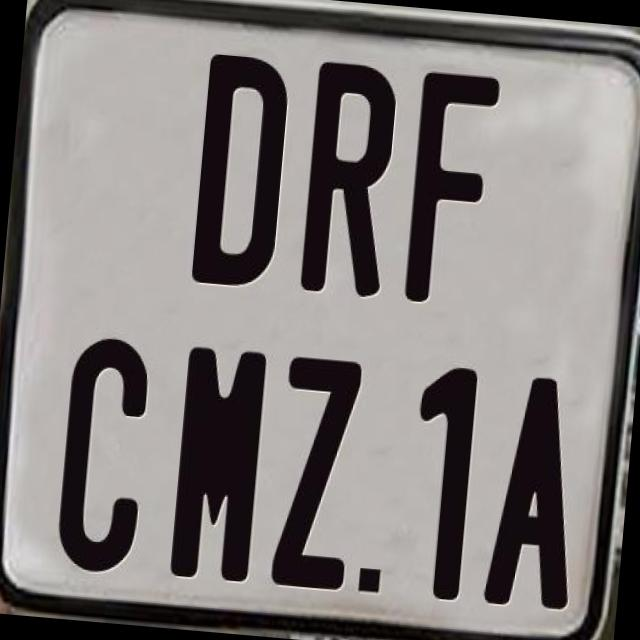1: (402, 360, 479, 596)
A: (478, 371, 582, 614)
C: (54, 336, 160, 578)
D: (186, 54, 290, 296)
F: (400, 67, 502, 312)
M: (165, 341, 265, 584)
R: (297, 58, 403, 303)
Z: (267, 351, 361, 594)
